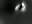person: (22, 1, 27, 14), (16, 3, 20, 15)
